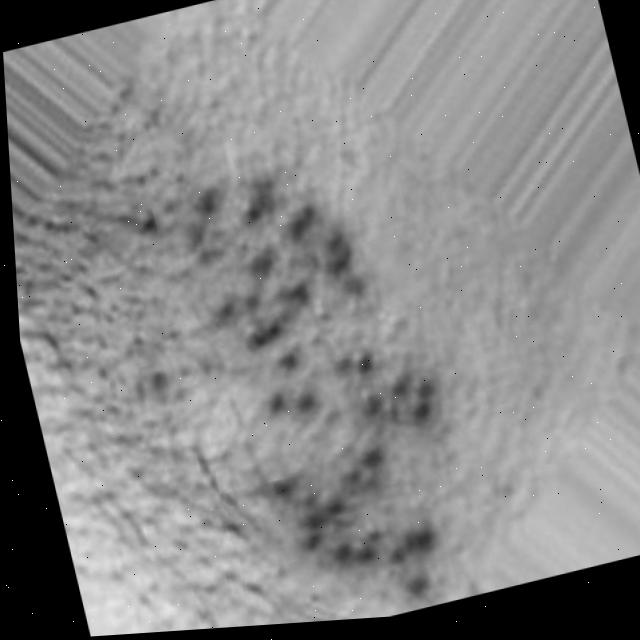Shingles: (150, 121, 492, 631)
